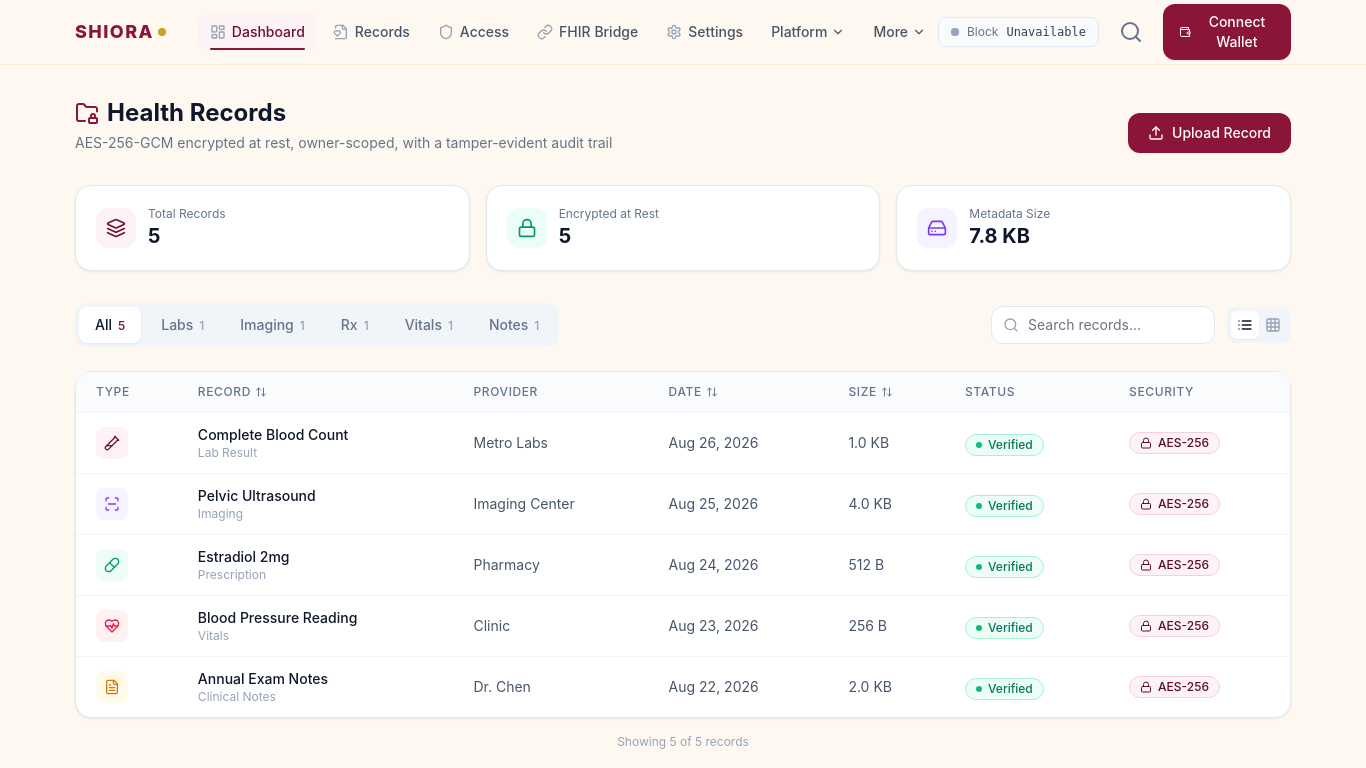
Test case: RecordsPage › notifies (does not open the upload modal) when no wallet is connected
Click the button "Upload Record": [1210, 133] box [1128,113,1291,153]
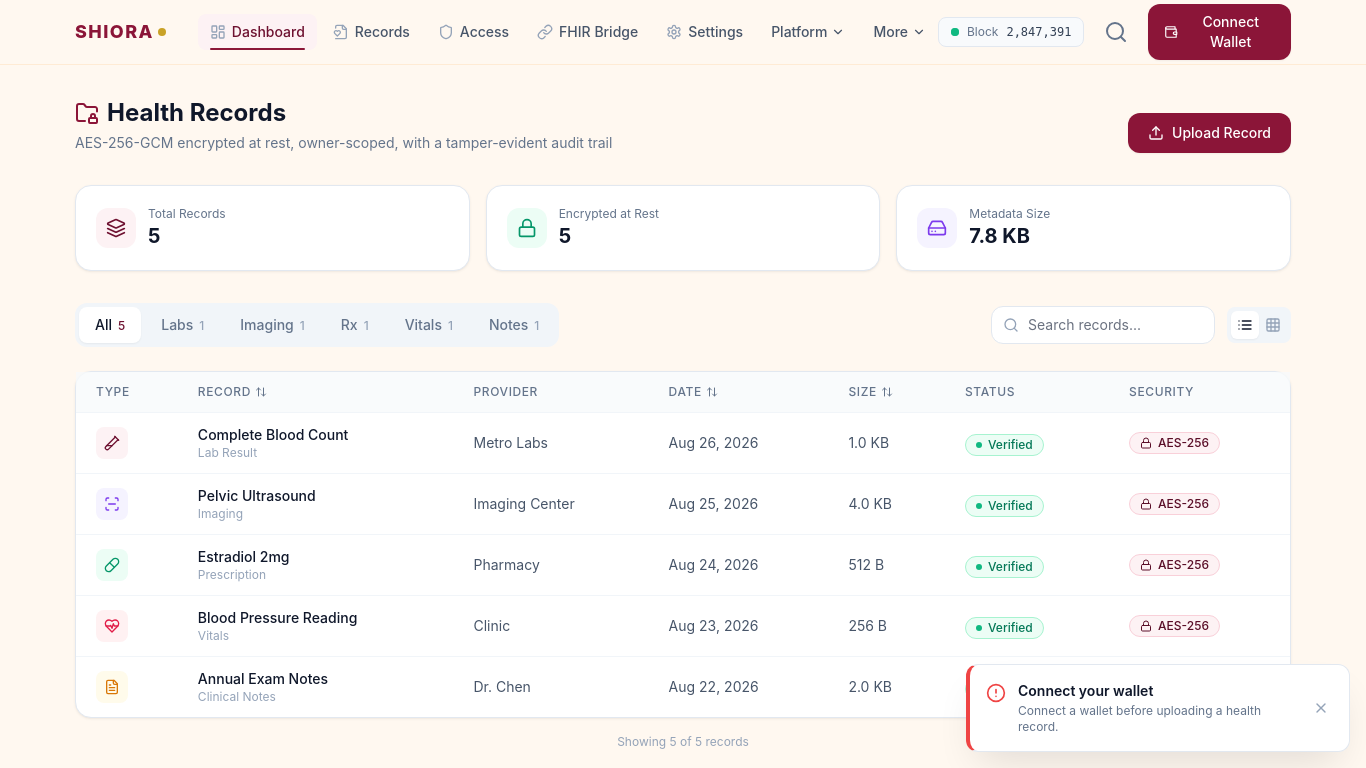
Expected: the text "Connect your wallet" is shown, [1018,682,1153,699]
